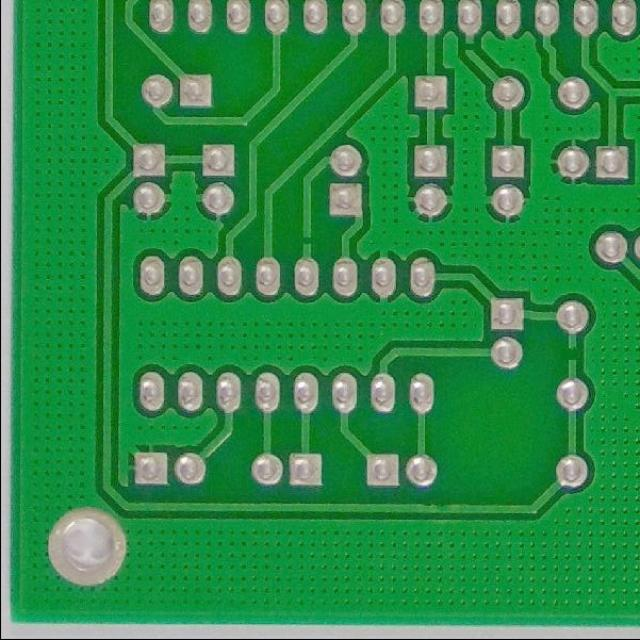open_circuit: (293, 232, 315, 250), (561, 346, 579, 366), (460, 40, 477, 56)
